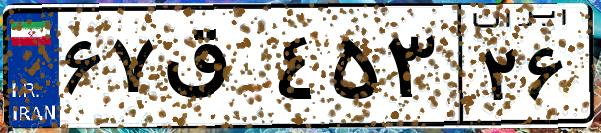2: (475, 38, 525, 113)
3: (385, 28, 445, 110)
4: (270, 28, 330, 110)
5: (330, 28, 385, 110)
6: (57, 26, 110, 100), (525, 38, 570, 115)
7: (110, 28, 158, 98)
ق: (158, 20, 270, 120)
